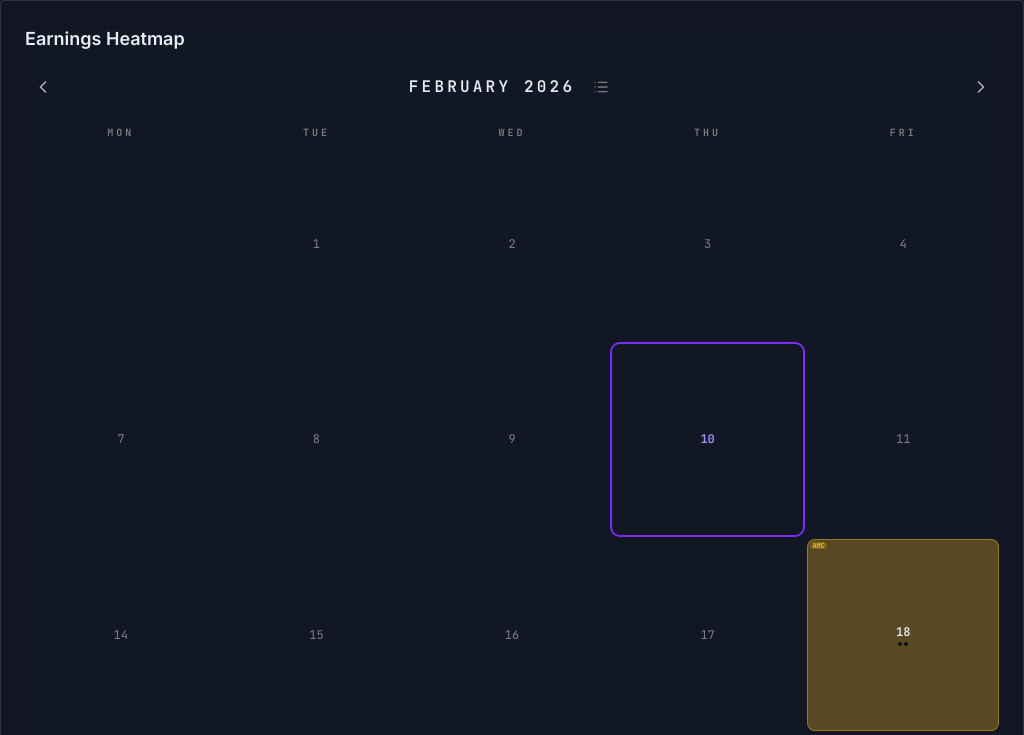
Test: EarningsHeatmap (US-027) › shows Today button when not on current month
What coordinates should you click on to do the following:
click the button named "Next month"
I would click on:
 (981, 87)
Its box is top-left (963, 69), bottom-right (999, 105).
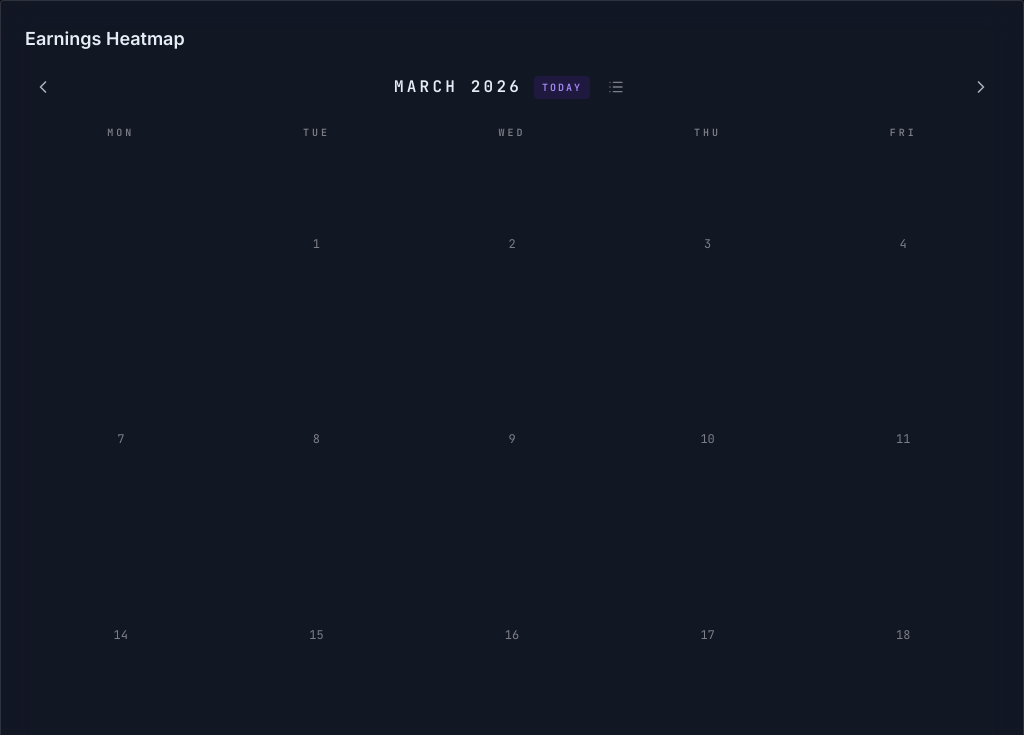
Expected: the button "Today" is shown, top-left (534, 76), bottom-right (590, 98)
